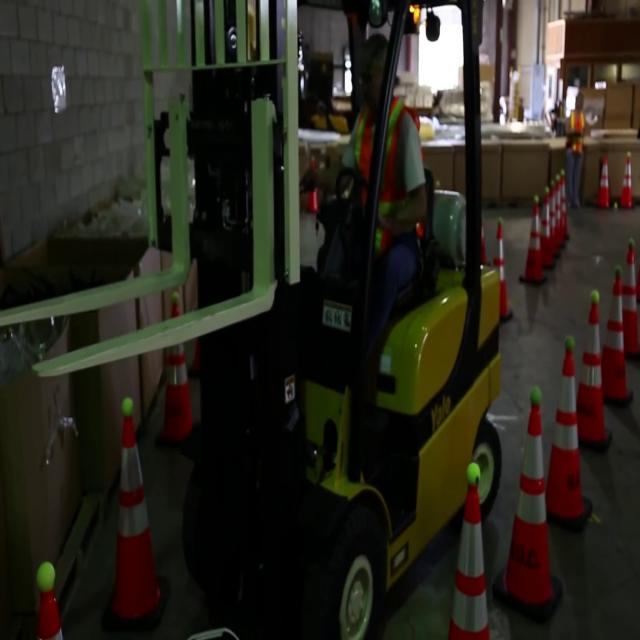Chariot elevateur: (167, 0, 519, 640)
